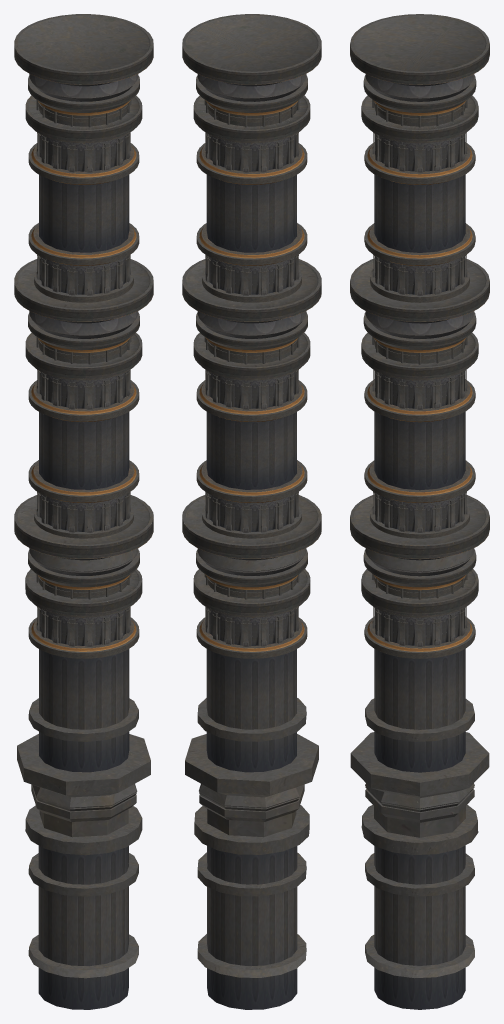
File: SM_ZhuZi01.glb
3 renders of one model, left to right at view 1: azimuth 30°, elevation 25°; view 2: azimuth 150°, elevation 25°; view 3: azimuth 270°, elevation 25°, orthographic.
Parts seen in each view (by area): view 1: SM_ZhuZi01.001; view 2: SM_ZhuZi01.001; view 3: SM_ZhuZi01.001.
Part boxes in pixels (x1,y1,x2,y2): SM_ZhuZi01.001: (14,14,153,1009); SM_ZhuZi01.001: (182,14,321,1009); SM_ZhuZi01.001: (350,14,489,1009).
Size of the model in its own units: 42.73 by 319 by 42.69.
3 materials, 3 textured.
